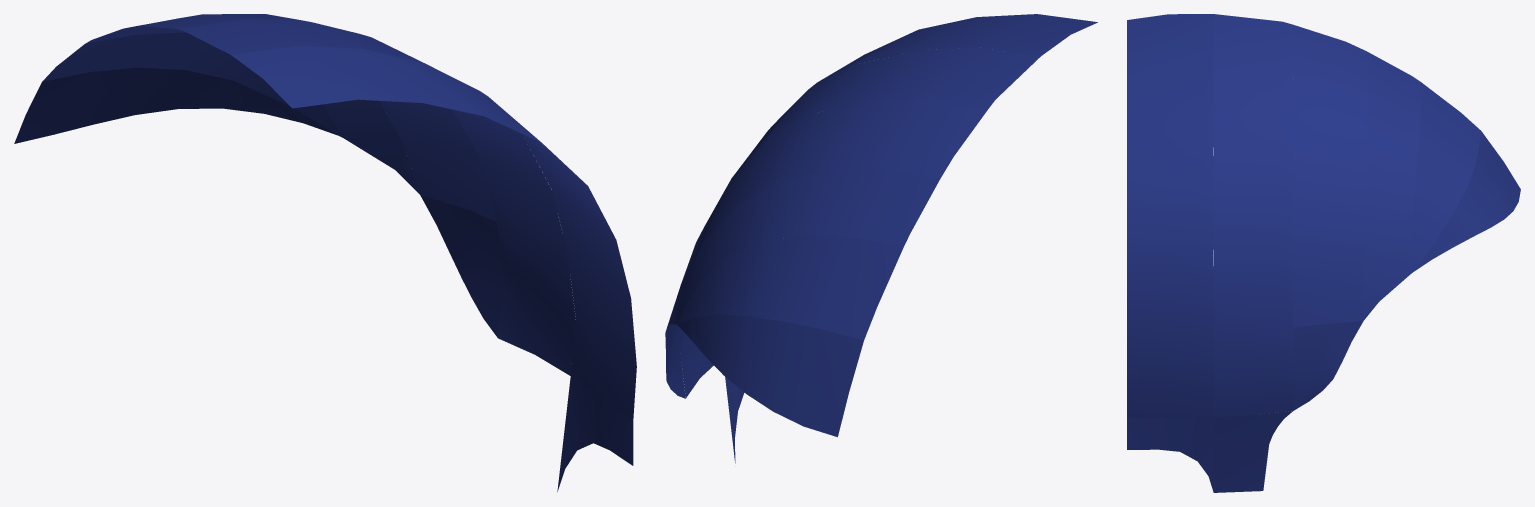
Rendered from Front_right_helm_5_#.fbx.
3 renders of one model, left to right at view 1: azimuth 30°, elevation 25°; view 2: azimuth 150°, elevation 25°; view 3: azimuth 270°, elevation 25°, orthographic. The views are drawn at different scales.
Parts seen in each view (by area): view 1: Front_right_helm_5_1, Front_right_helm_5_3, Front_right_helm_5_9, Front_right_helm_5_5, Front_right_helm_5_8, Front_right_helm_5_6, Front_right_helm_5_7, Front_right_helm_5_2; view 2: Front_right_helm_5_5, Front_right_helm_5_8, Front_right_helm_5_7, Front_right_helm_5_9, Front_right_helm_5_3, Front_right_helm_5_1, Front_right_helm_5_6, Front_right_helm_5_2; view 3: Front_right_helm_5_1, Front_right_helm_5_3, Front_right_helm_5_5, Front_right_helm_5_7, Front_right_helm_5_8, Front_right_helm_5_9, Front_right_helm_5_4, Front_right_helm_5_6, Front_right_helm_5_2.
Part boxes in pixels (left/top/right/bottom): Front_right_helm_5_1: left=231, top=46, right=636, bottom=420; Front_right_helm_5_3: left=175, top=18, right=575, bottom=375; Front_right_helm_5_9: left=14, top=67, right=337, bottom=143; Front_right_helm_5_5: left=134, top=14, right=496, bottom=221; Front_right_helm_5_8: left=42, top=32, right=343, bottom=137; Front_right_helm_5_6: left=420, top=195, right=502, bottom=337; Front_right_helm_5_7: left=85, top=26, right=419, bottom=194; Front_right_helm_5_2: left=557, top=377, right=633, bottom=491; Front_right_helm_5_5: left=666, top=100, right=987, bottom=330; Front_right_helm_5_8: left=676, top=235, right=903, bottom=340; Front_right_helm_5_7: left=668, top=169, right=939, bottom=324; Front_right_helm_5_9: left=677, top=314, right=863, bottom=437; Front_right_helm_5_3: left=679, top=47, right=1040, bottom=398; Front_right_helm_5_1: left=770, top=14, right=1097, bottom=127; Front_right_helm_5_6: left=665, top=324, right=685, bottom=398; Front_right_helm_5_2: left=725, top=377, right=744, bottom=463; Front_right_helm_5_1: left=1127, top=14, right=1213, bottom=418; Front_right_helm_5_3: left=1213, top=14, right=1294, bottom=417; Front_right_helm_5_5: left=1293, top=25, right=1367, bottom=327; Front_right_helm_5_7: left=1363, top=51, right=1421, bottom=320; Front_right_helm_5_8: left=1410, top=82, right=1481, bottom=274; Front_right_helm_5_9: left=1413, top=131, right=1520, bottom=271; Front_right_helm_5_4: left=1213, top=411, right=1292, bottom=492; Front_right_helm_5_6: left=1293, top=321, right=1363, bottom=410; Front_right_helm_5_2: left=1127, top=417, right=1213, bottom=491.
Size of the model in its own units: 9.27 by 13.26 by 12.9.
